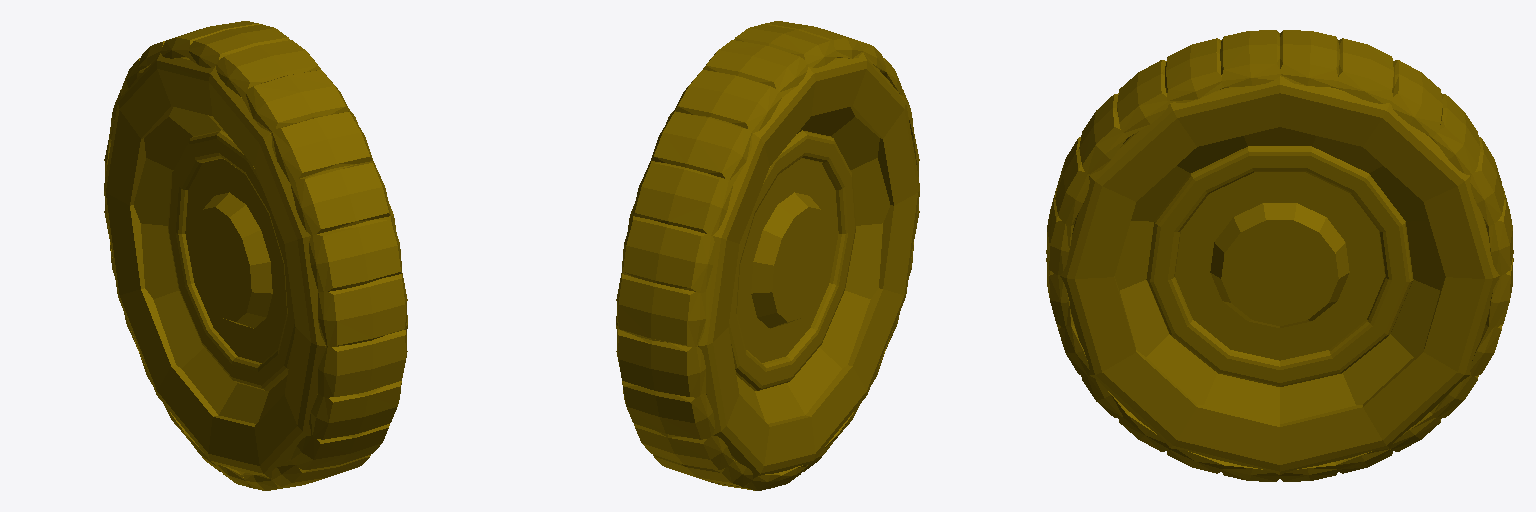
The model's file is llanta4.obj.
3 views of the same model, side by side, from view 1: azimuth 30°, elevation 25°; view 2: azimuth 150°, elevation 25°; view 3: azimuth 270°, elevation 25° (orthographic).
Visible parts, largest first — view 1: CartoonTrack_TireFrontRight; view 2: CartoonTrack_TireFrontRight; view 3: CartoonTrack_TireFrontRight.
Part boxes in pixels (left/top/right/bottom): CartoonTrack_TireFrontRight: left=104, top=21, right=407, bottom=490; CartoonTrack_TireFrontRight: left=616, top=21, right=919, bottom=490; CartoonTrack_TireFrontRight: left=1046, top=30, right=1513, bottom=481.
Bounding box in the file's own units: 0.2486 × 1.06 × 1.06.